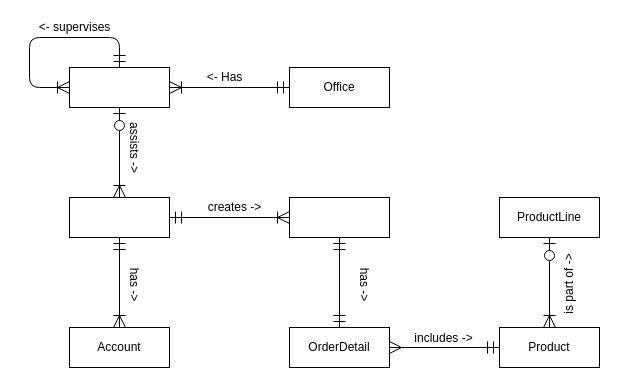
This 617x385 diagram has some shape labels left out. Each missing label, with the box of its shape:
Customer: (68, 196, 170, 238)
Employee: (68, 66, 170, 108)
Order: (288, 196, 390, 238)
